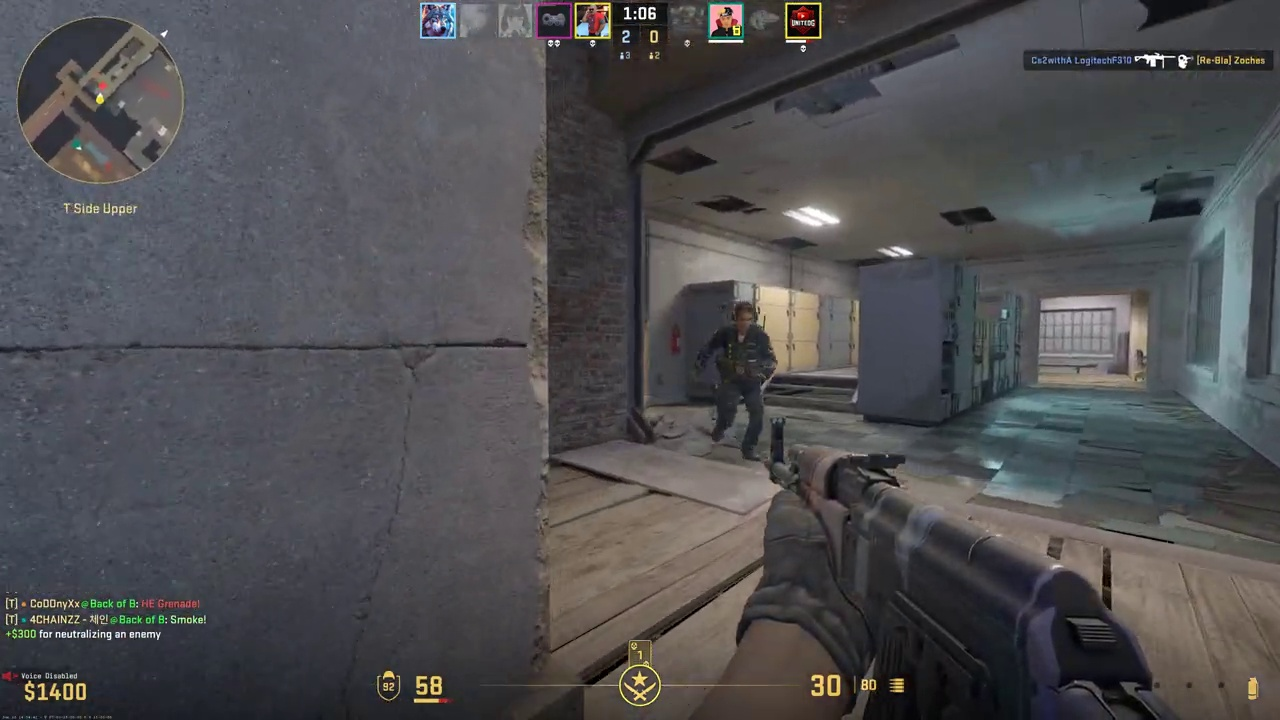CT: (712, 301, 774, 460)
